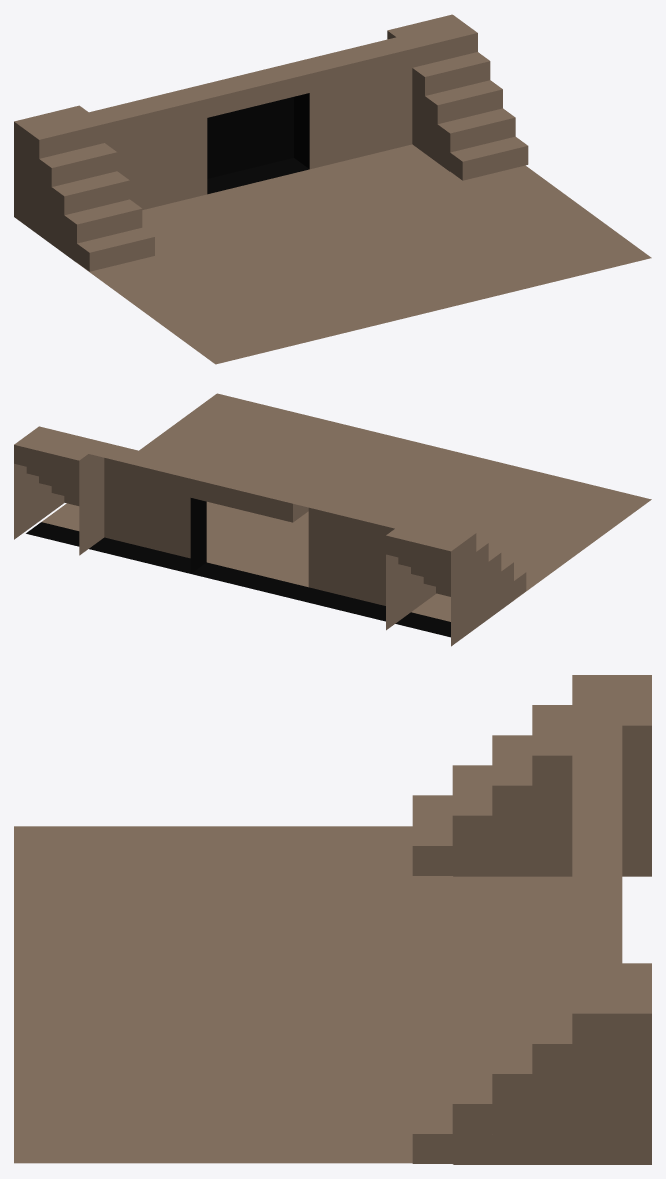
File: Ship designs.fbx
3 views of the same model, one above another, from view 1: azimuth 30°, elevation 25°; view 2: azimuth 150°, elevation 25°; view 3: azimuth 270°, elevation 25° (orthographic). The views are drawn at different scales.
Visible parts, largest first — view 1: Plane, Plane.005, Cube.001, Cube.002, Plane.002, Plane.004; view 2: Plane, Plane.005, Cube.001, Cube.002, Plane.002, Plane.003, Plane.001, Plane.004; view 3: Plane, Cube.002, Cube.001, Plane.003, Plane.005, Plane.001.
Boxes of the visible parts, bbox=[...] form: Plane: bbox=[77, 144, 651, 364]; Plane.005: bbox=[89, 37, 412, 209]; Cube.001: bbox=[14, 105, 154, 271]; Cube.002: bbox=[387, 14, 528, 180]; Plane.002: bbox=[14, 139, 76, 262]; Plane.004: bbox=[412, 87, 449, 171]; Plane: bbox=[26, 393, 651, 637]; Plane.005: bbox=[89, 442, 410, 605]; Cube.001: bbox=[386, 517, 526, 607]; Cube.002: bbox=[14, 426, 104, 505]; Plane.002: bbox=[451, 560, 513, 646]; Plane.003: bbox=[14, 463, 64, 539]; Plane.001: bbox=[386, 554, 436, 630]; Plane.004: bbox=[79, 471, 104, 555]; Plane: bbox=[14, 826, 572, 1163]; Cube.002: bbox=[412, 963, 651, 1163]; Cube.001: bbox=[412, 675, 651, 875]; Plane.003: bbox=[453, 1044, 651, 1164]; Plane.005: bbox=[572, 725, 622, 963]; Plane.001: bbox=[453, 754, 651, 876].
Size of the model in its own units: 2010 by 418 by 1600.
